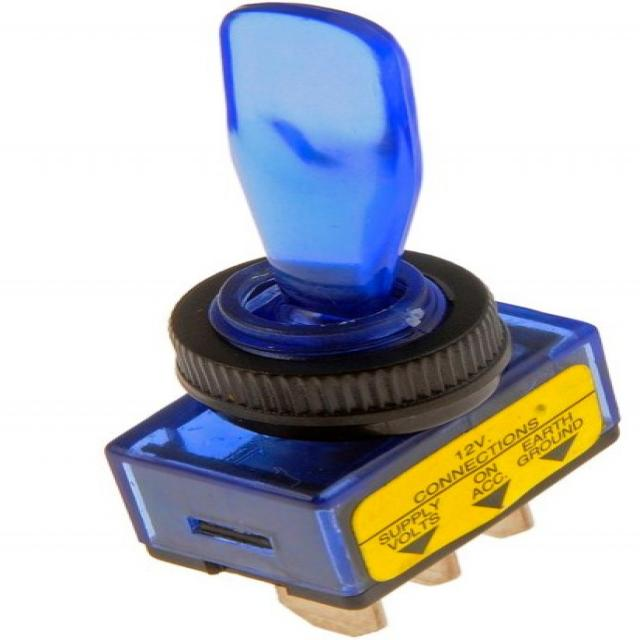toggle switch: (169, 0, 508, 422)
